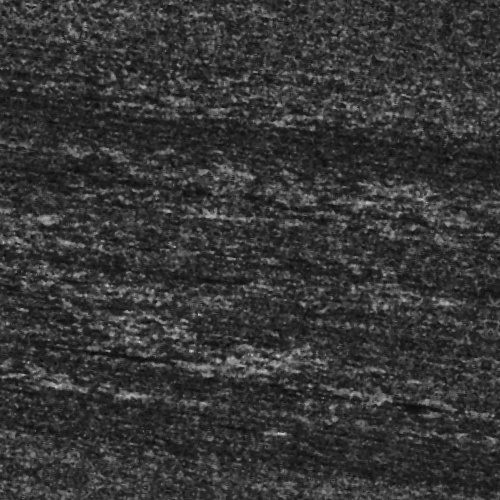object: (125, 362, 270, 375)
shadow: (34, 362, 197, 375), (481, 149, 500, 158)
